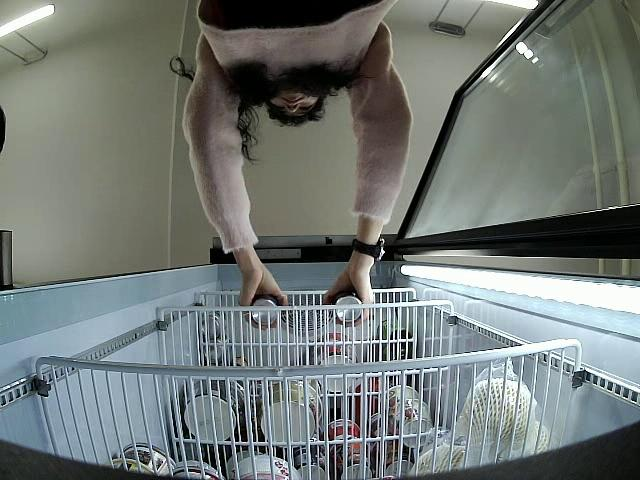00_hand: (321, 264, 376, 327), (237, 268, 289, 327)
